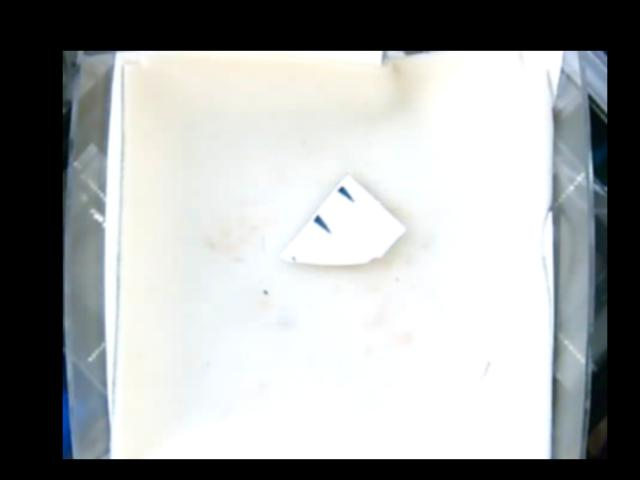China: (284, 174, 406, 265)
